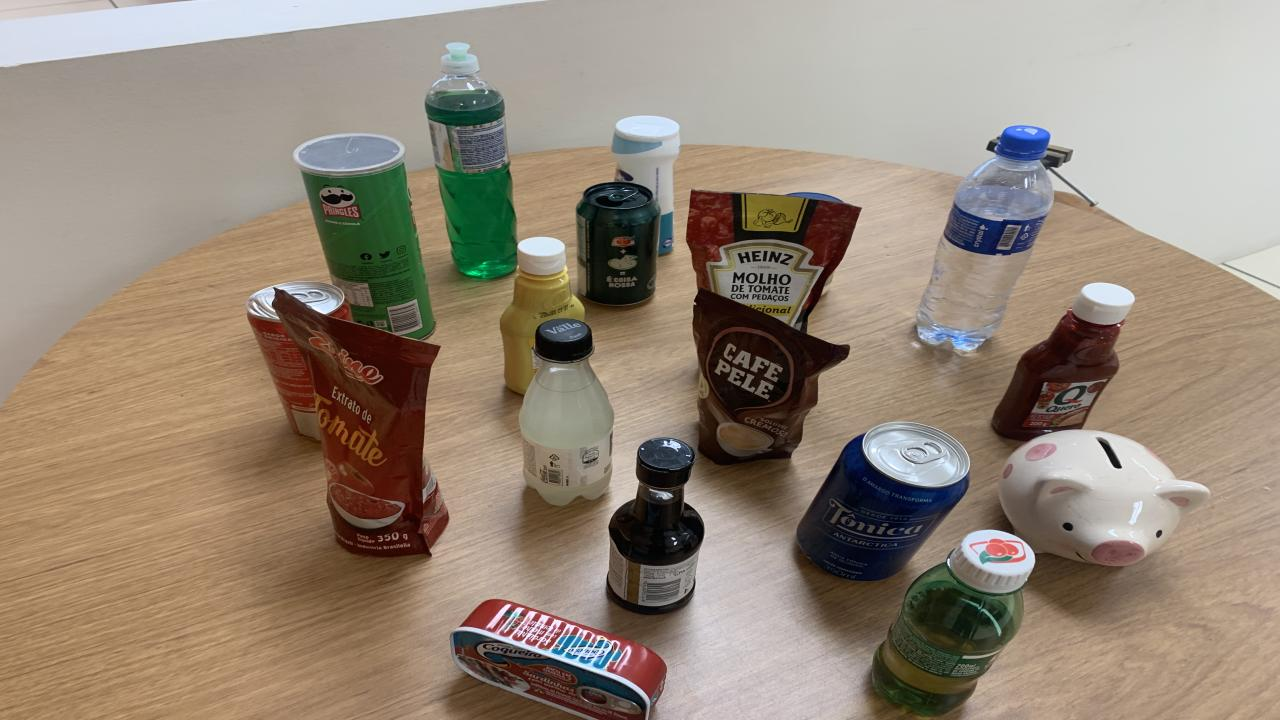Cleaner-Cleanup_Items: (610, 114, 680, 253)
Coffee-Pantry_Items: (692, 289, 850, 465)
Coke-Drinks: (245, 281, 352, 441)
Detergent-Cleanup_Items: (425, 43, 518, 279)
English_Sauce-Pantry_Items: (608, 437, 705, 615)
Guarana-Drinks: (872, 531, 1035, 716)
Guarana_Can-Drinks: (578, 182, 660, 306)
Ketchup-Pantry_Items: (992, 283, 1135, 441)
Mustard-Pantry_Items: (500, 236, 585, 394)
Pig_Safe-Miscellaneous: (1000, 429, 1210, 566)
Pringles-Snacks: (292, 133, 435, 339)
Soda-Drinks: (520, 319, 615, 506)
Tomato_Sauce-Pantry_Items: (272, 291, 448, 557), (688, 189, 860, 332)
Tonic-Drinks: (798, 422, 970, 581)
Tuna_Can-Pantry_Items: (450, 598, 668, 718)
Water_Bottle-Drinks: (918, 126, 1052, 351)
